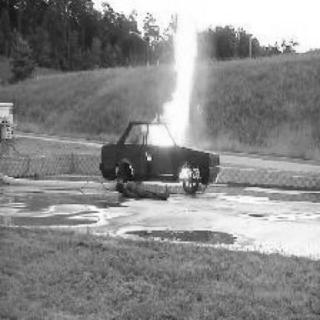Fire: (137, 15, 207, 147), (139, 161, 202, 193)
